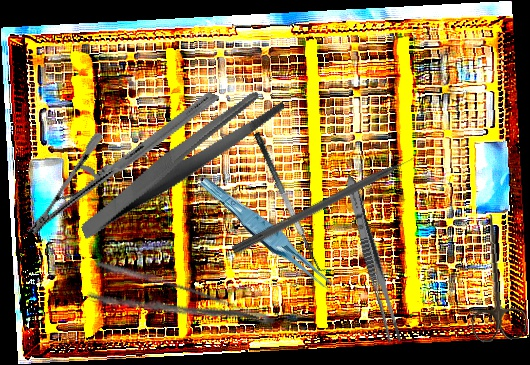Dressing Forceps: (57, 83, 305, 241), (85, 257, 278, 357), (340, 173, 405, 346)
Iris Scissors: (460, 211, 529, 344)
Needle Holder: (25, 46, 220, 281)
Pusher: (231, 147, 430, 257)
Spatula Surgical: (253, 126, 332, 278)
Tissue Forceps: (198, 167, 339, 304)
